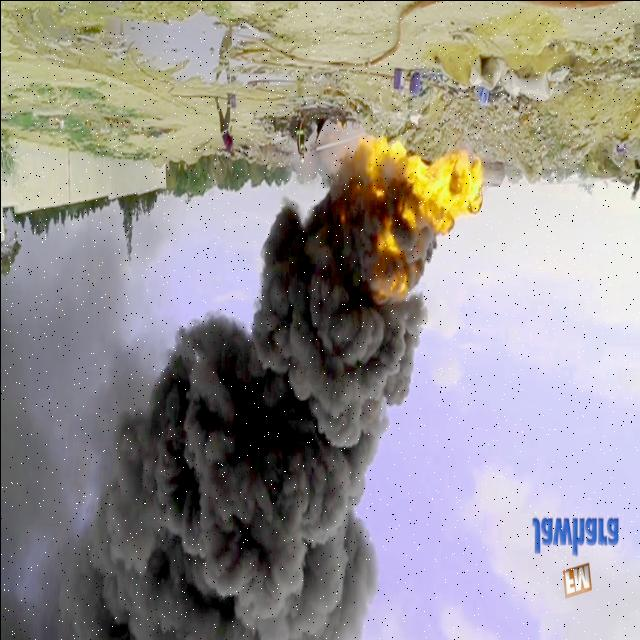api: (411, 153, 491, 238), (369, 134, 419, 194), (383, 270, 411, 294), (379, 229, 399, 256)
asap: (1, 299, 431, 640), (249, 157, 362, 305), (4, 210, 184, 301), (411, 238, 443, 285)
